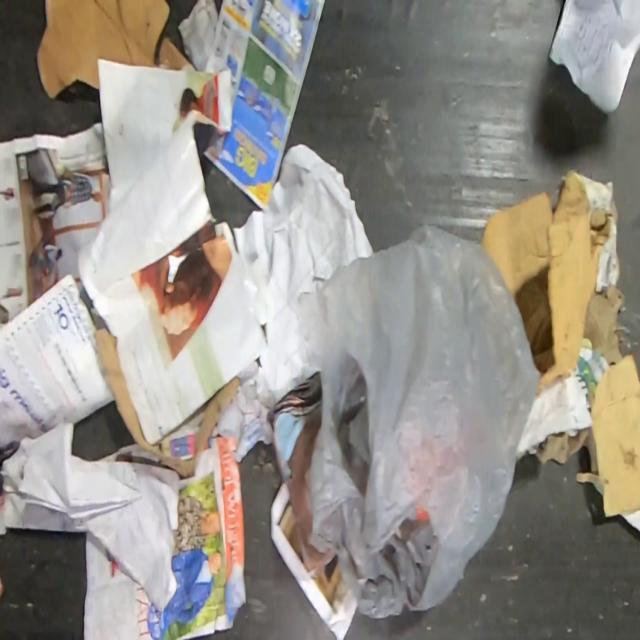cardboard: (481, 165, 640, 537), (92, 326, 242, 477), (34, 0, 198, 100)
soft_plastic: (298, 223, 540, 620)
